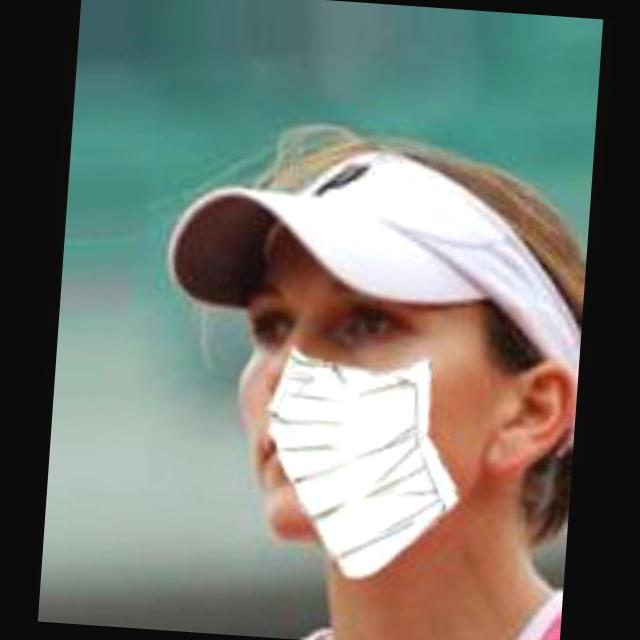suspicion: (182, 188, 535, 618)
